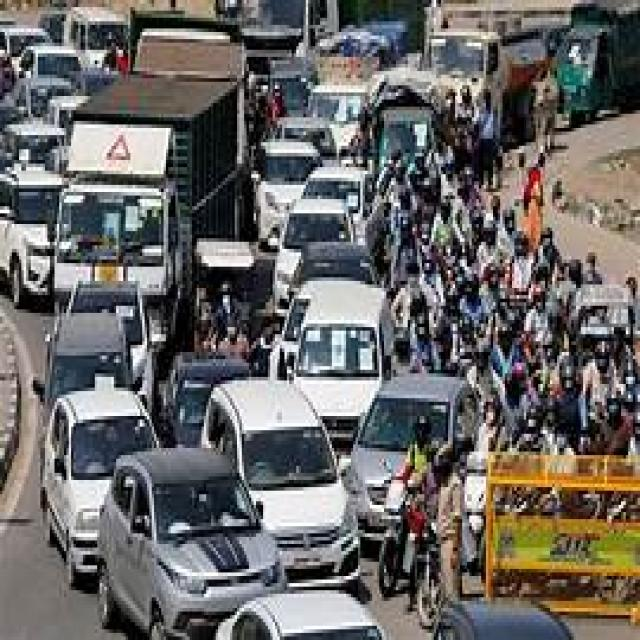Car: (39, 201, 477, 638)
Truck: (55, 30, 244, 348)
Two Wheeler: (379, 478, 415, 597)
